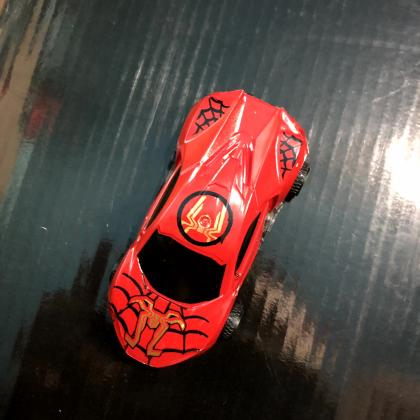Car: (105, 90, 309, 370)
